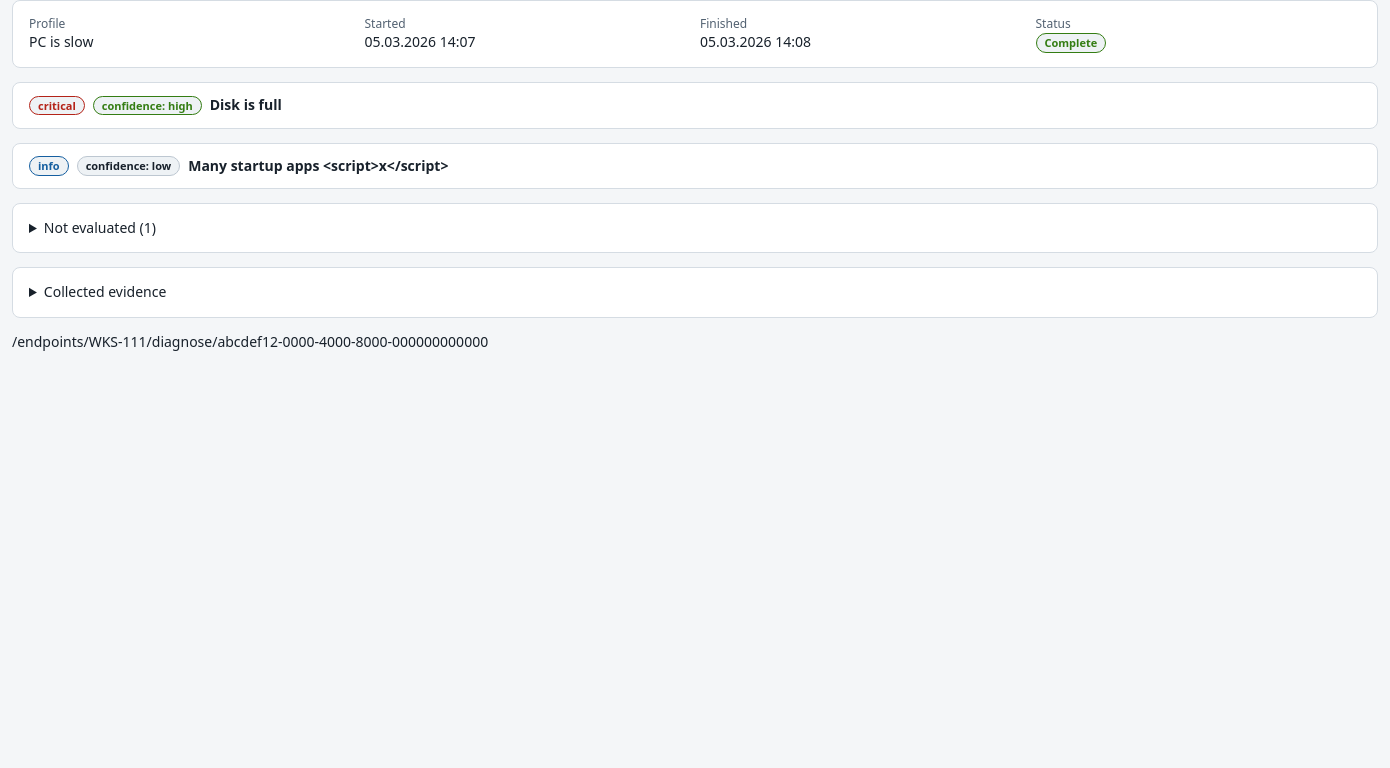
Test: Diagnosis run page › an action missing from the user catalog is disabled with a tooltip
The width and height of the screenshot is (1390, 768).
Click the button "critical confidence: high Disk is full". click: [57, 105]
box: [13,83,1377,128]
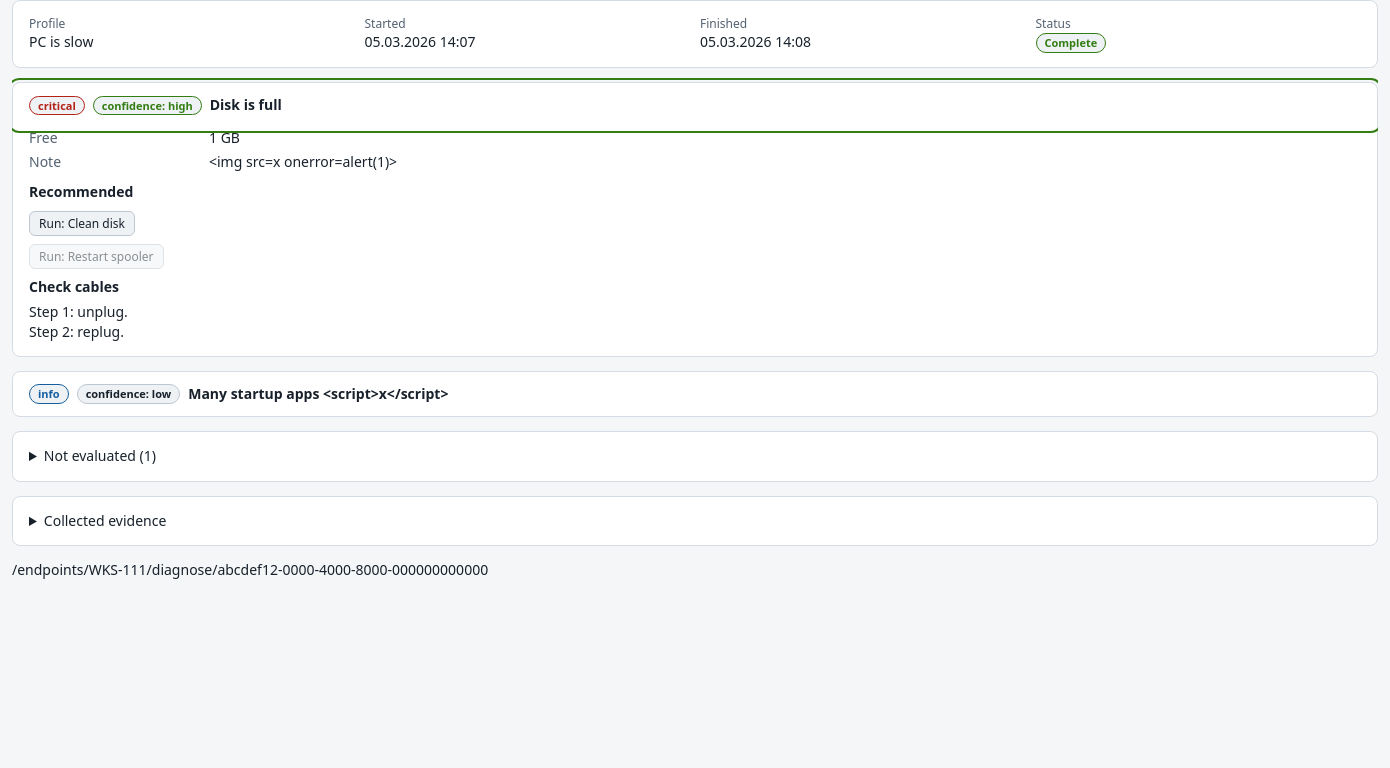
Expected: the button "Run: Restart spooler" is disabled, [29,244,164,269]
